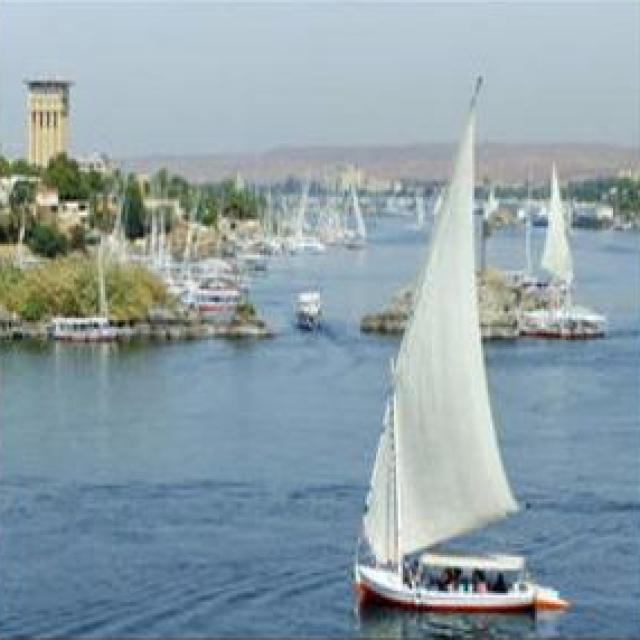passenger ship: (46, 315, 118, 342), (193, 282, 244, 311), (294, 288, 326, 331)
sailboat: (355, 66, 555, 628), (524, 167, 600, 337)
